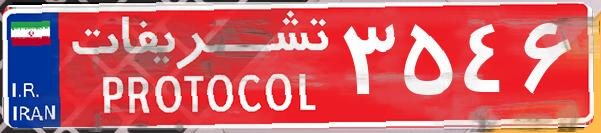3: (340, 20, 400, 115)
4: (460, 20, 520, 115)
5: (400, 20, 460, 115)
6: (520, 20, 580, 115)
تشریفات: (60, 8, 340, 125)
